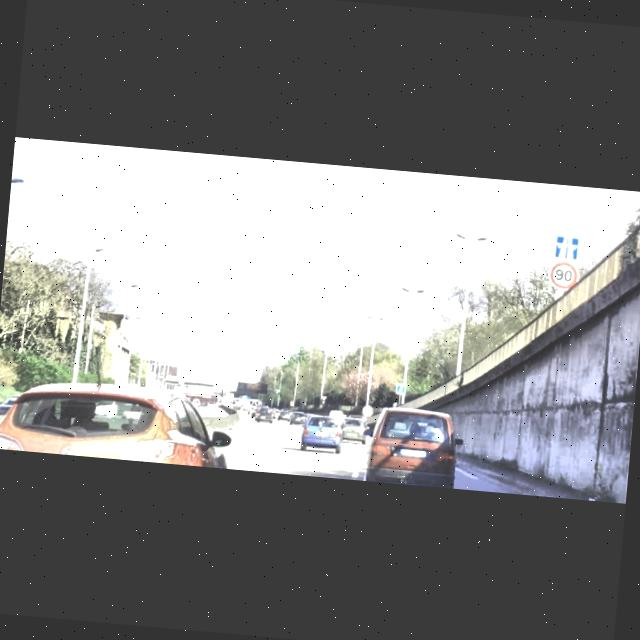speed_90: (550, 260, 580, 288)
